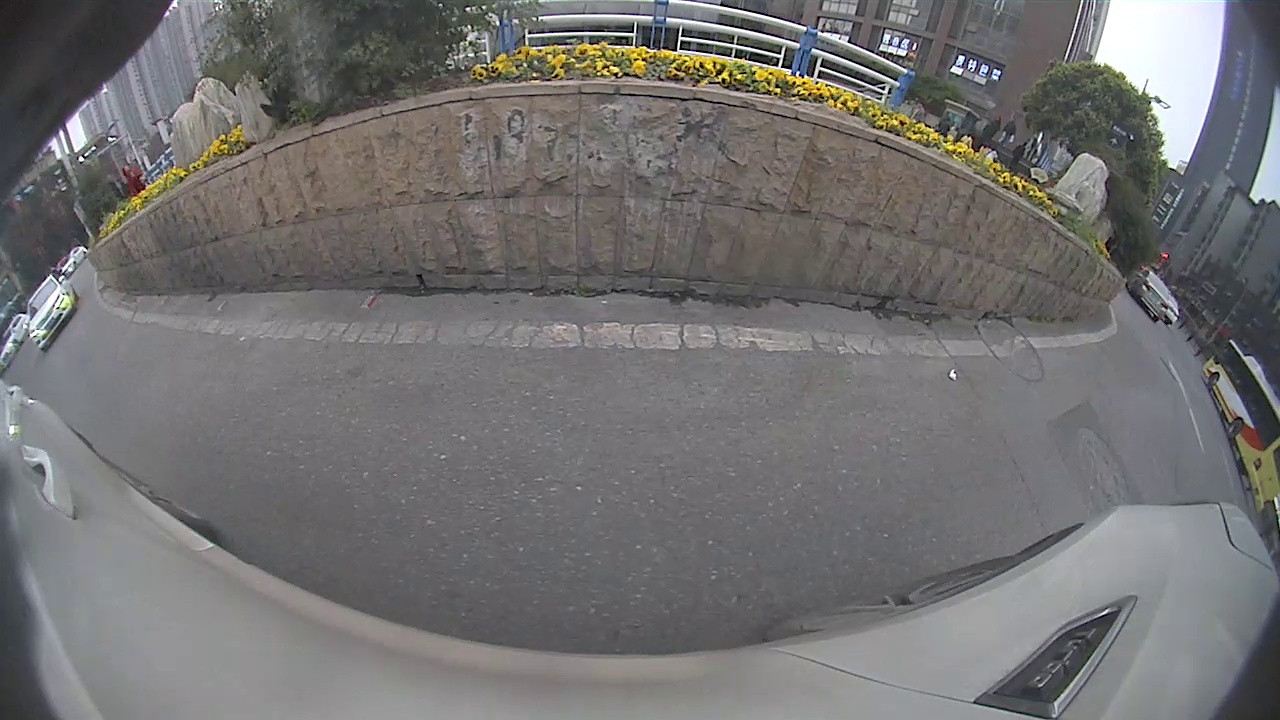bus: (1205, 339, 1278, 525)
car: (25, 275, 80, 353)
rear: (1226, 419, 1243, 440)
